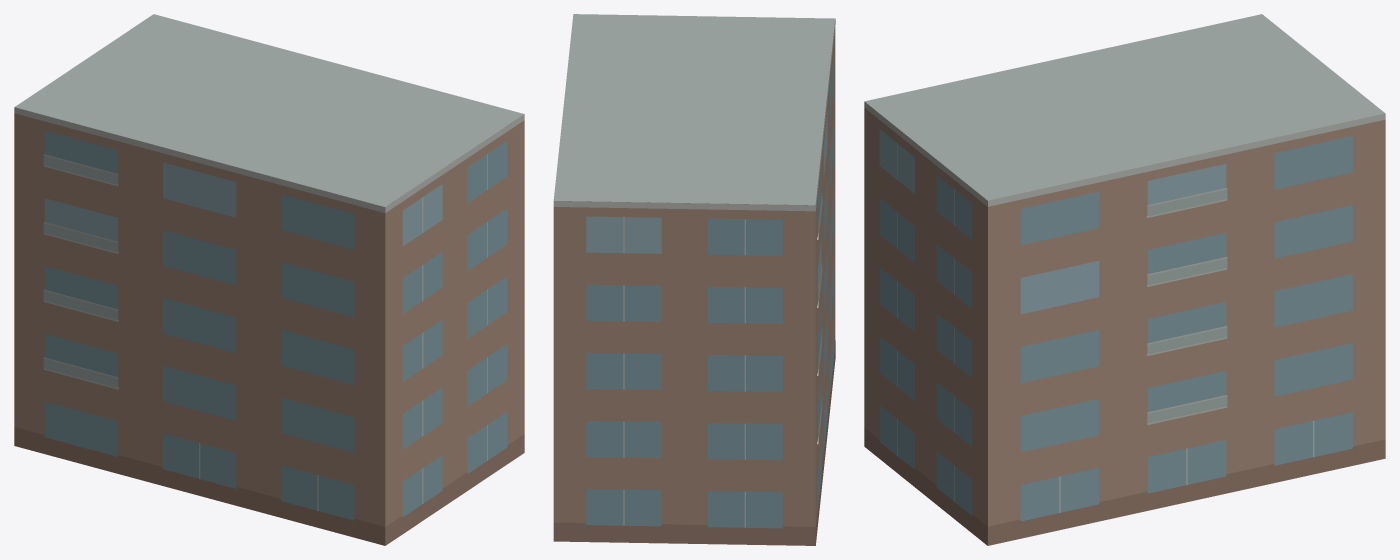
Rendered from survey-upis-32937988.glb.
3 renders of one model, left to right at view 1: azimuth 30°, elevation 25°; view 2: azimuth 150°, elevation 25°; view 3: azimuth 270°, elevation 25°, orthographic.
Parts seen in each view (by area): view 1: survey-upis-32937988.tmp; view 2: survey-upis-32937988.tmp; view 3: survey-upis-32937988.tmp.
Boxes of the visible parts, x1=… form: survey-upis-32937988.tmp: x1=14, y1=14, x2=524, y2=545; survey-upis-32937988.tmp: x1=553, y1=14, x2=835, y2=545; survey-upis-32937988.tmp: x1=864, y1=14, x2=1385, y2=545.
Bounding box in the file's own units: 15.92 × 13.71 × 18.78.
